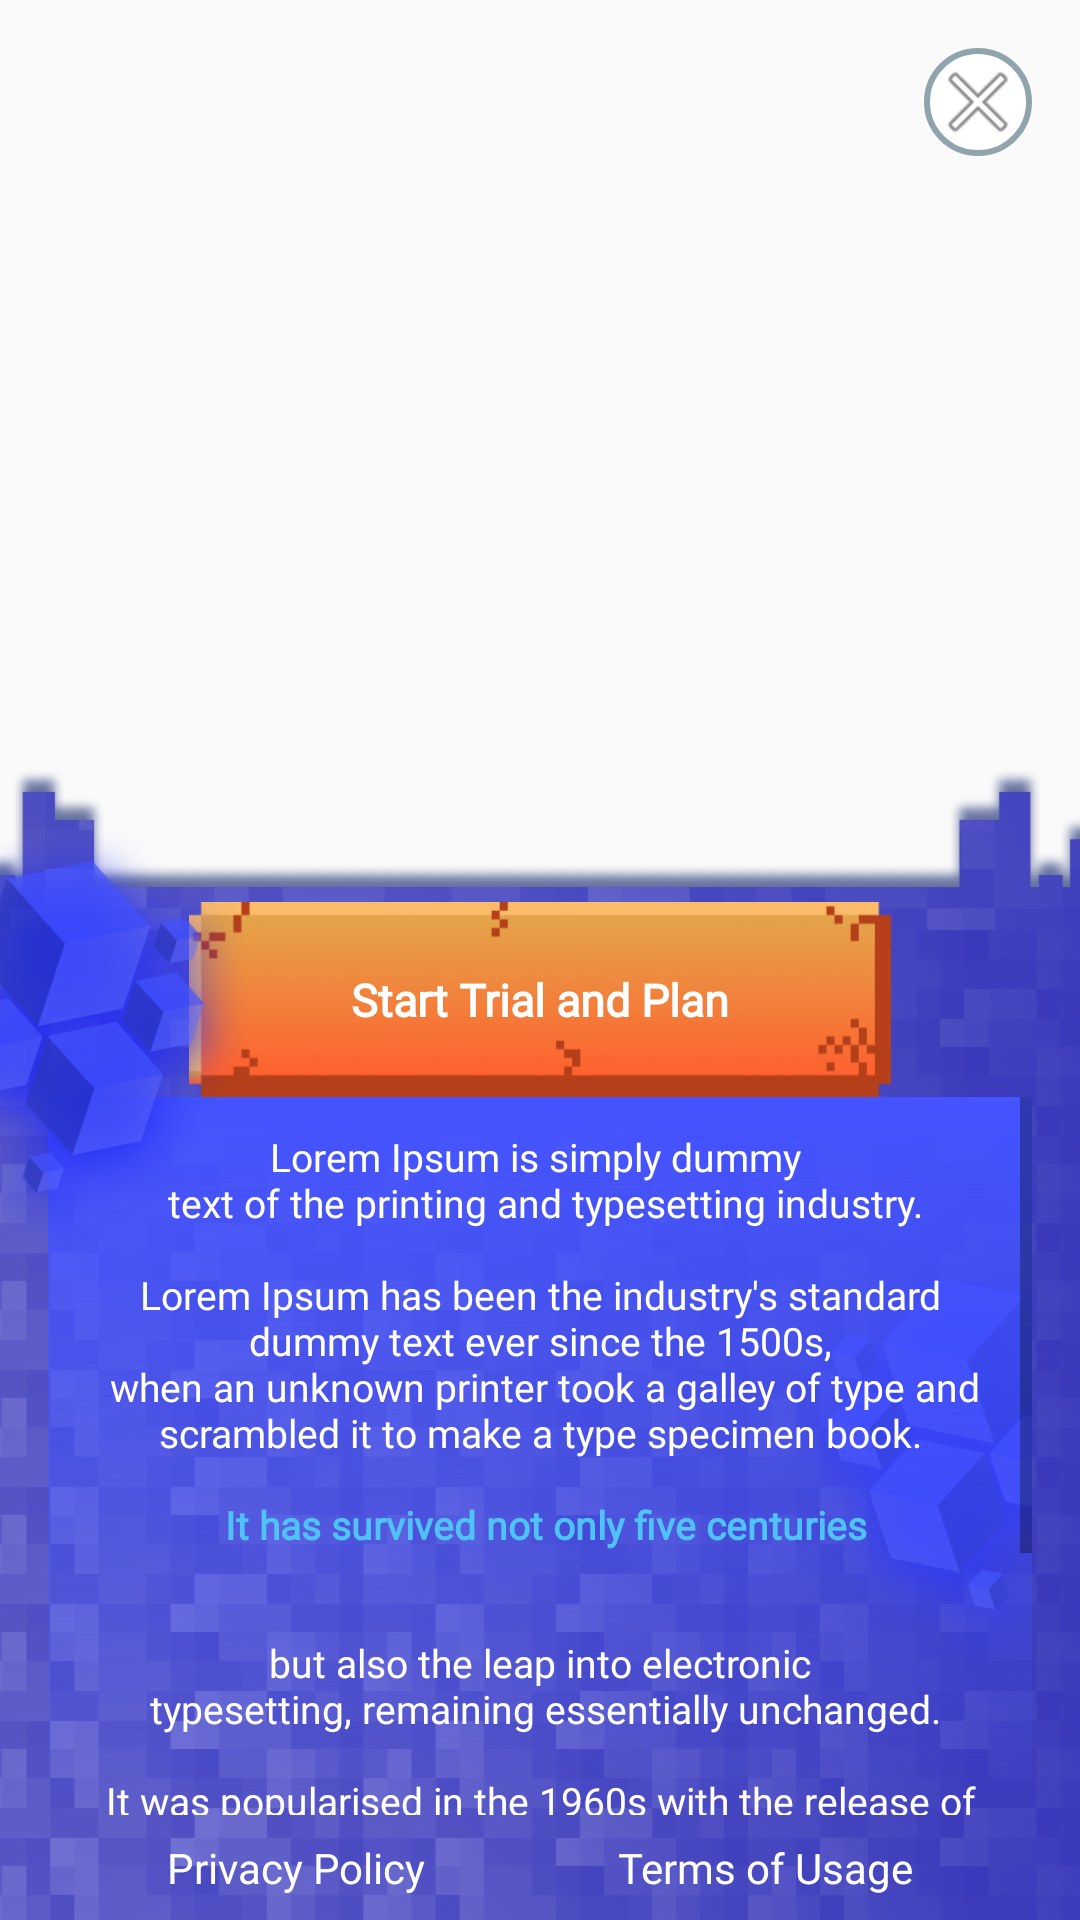

Icon bounding boxes for this 1080 × 1920 phone screenshot, format (x1, y1, x2, y2):
close clear cancel: (924, 48, 1032, 156)
